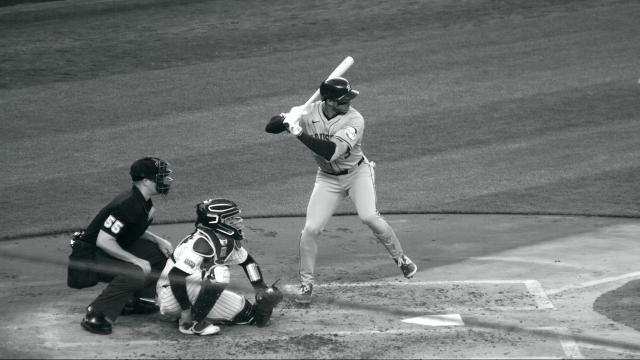baseball bat: (308, 56, 354, 106)
